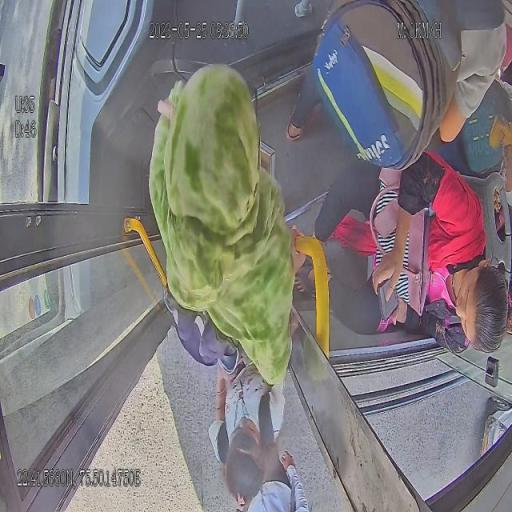persona: (148, 61, 308, 465), (293, 150, 509, 356), (284, 1, 512, 175), (224, 390, 310, 512)
